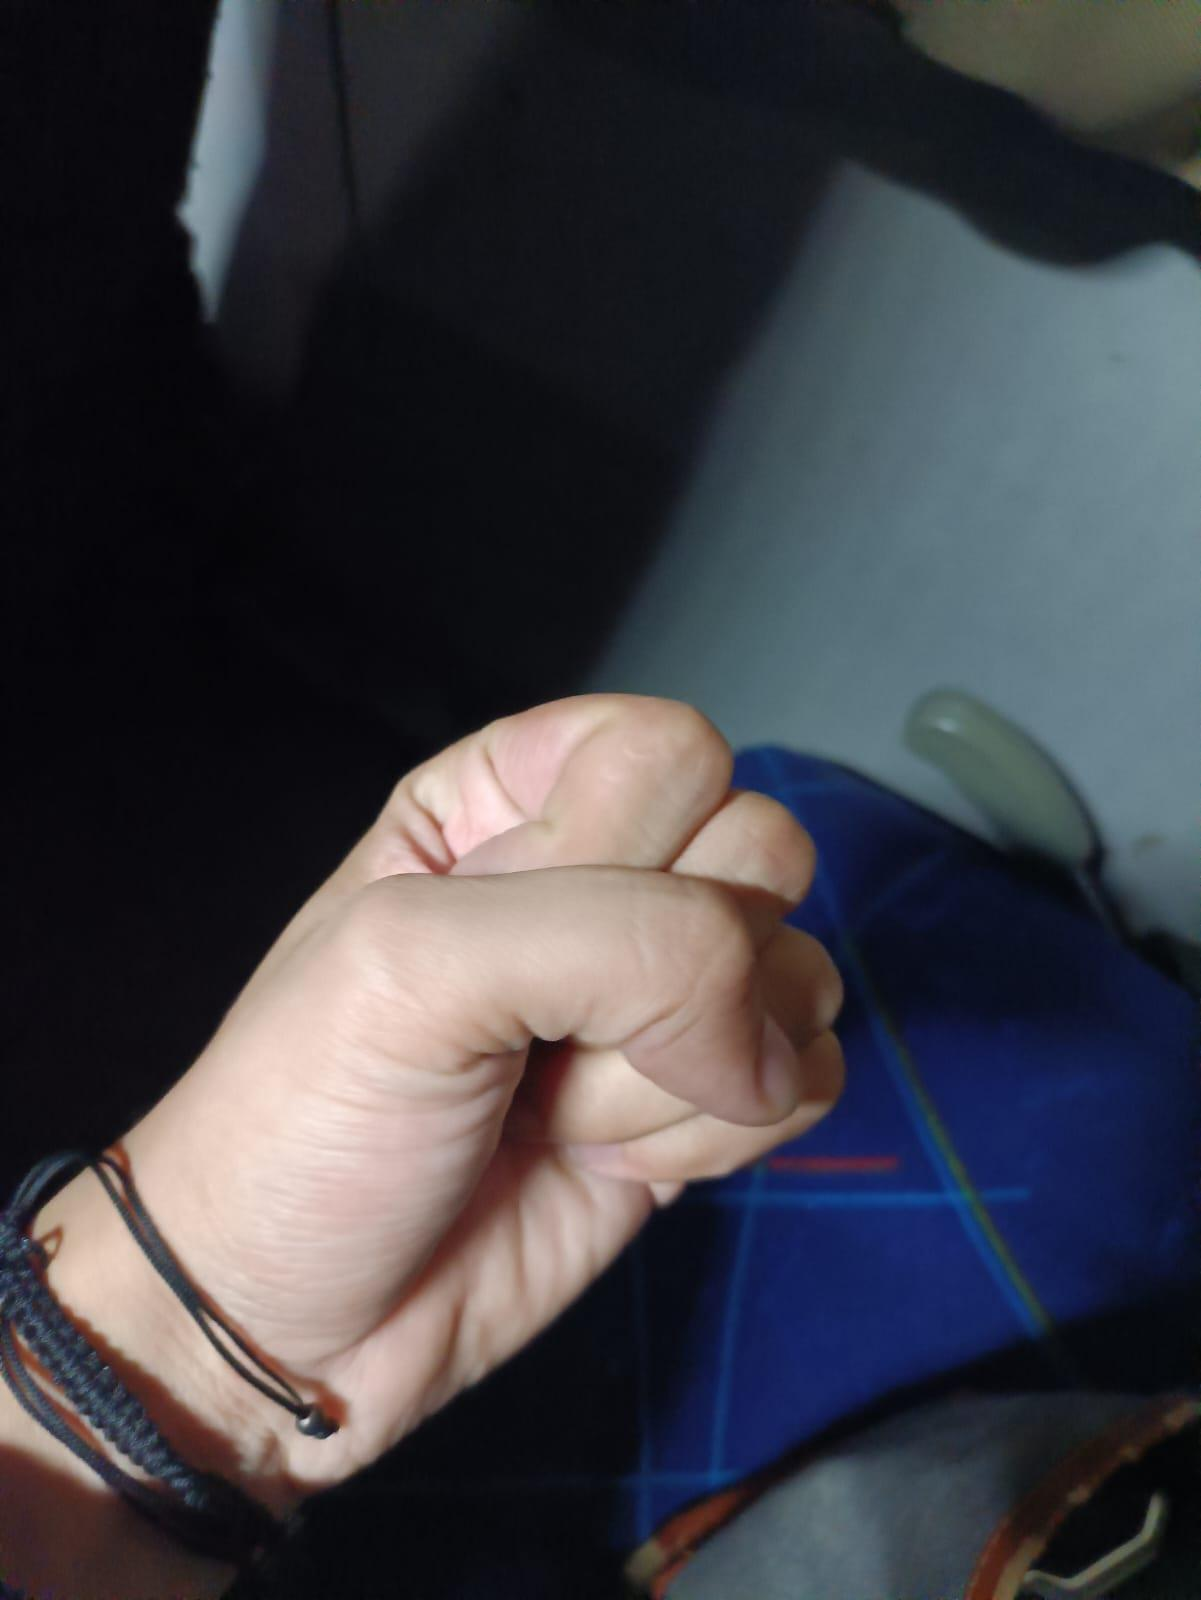Stone: (0, 695, 852, 1600)
